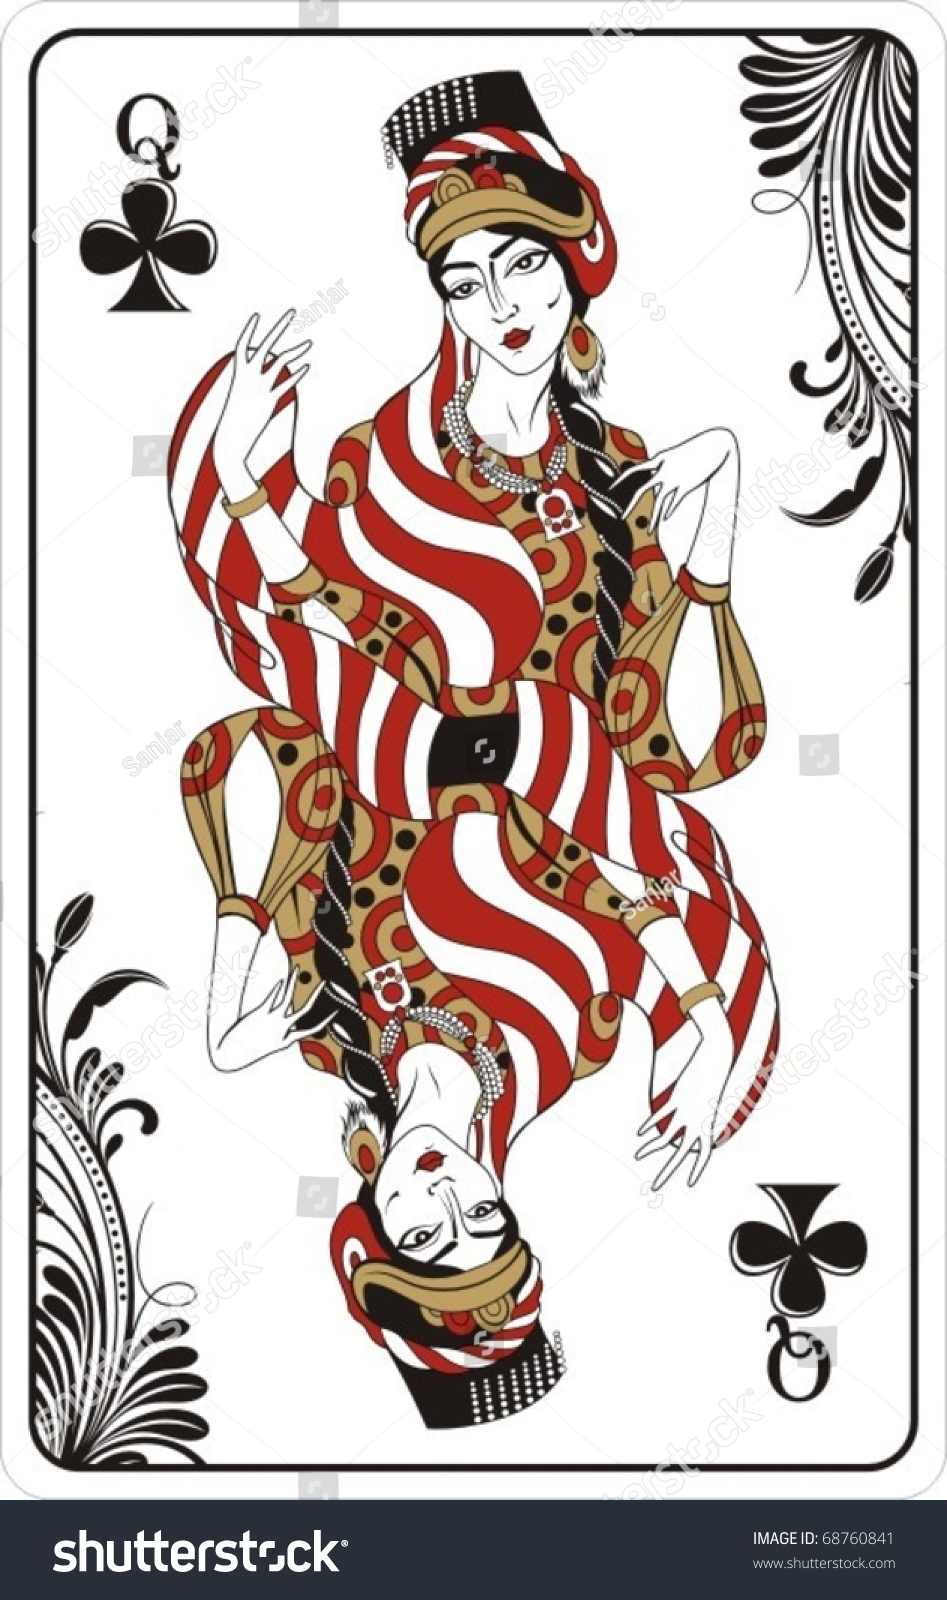queen of clubs: (33, 31, 919, 1453)
